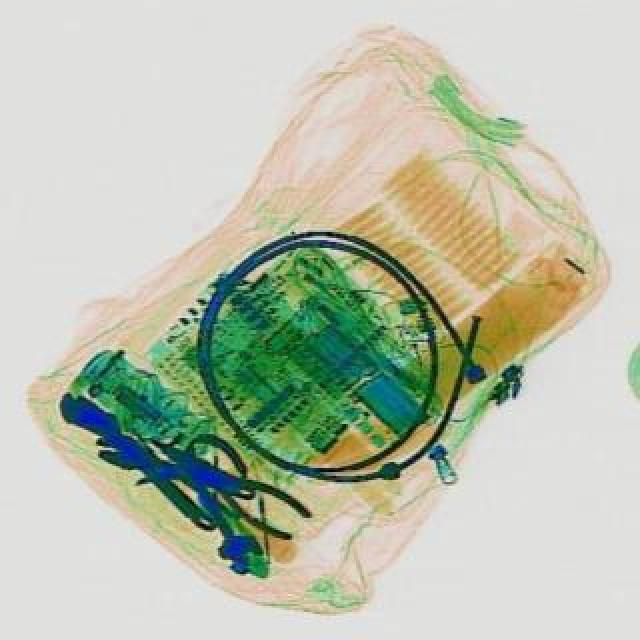scissors: (44, 380, 224, 544), (90, 426, 262, 510)
wrench: (158, 432, 312, 544)
